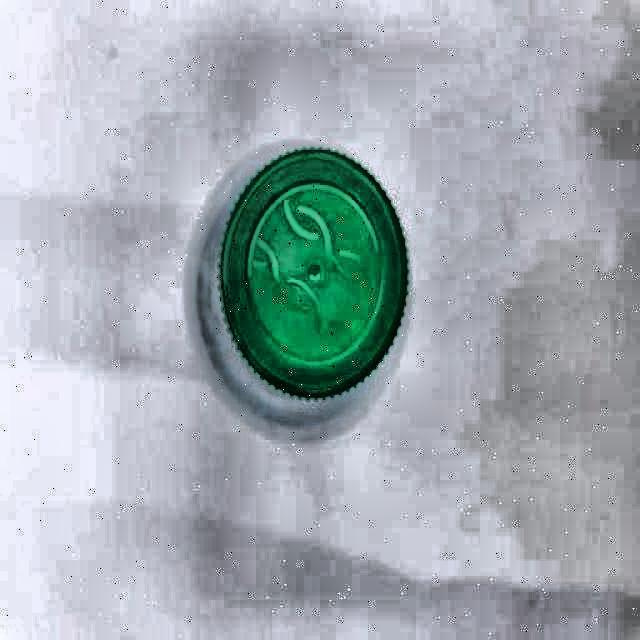plastic: (217, 147, 409, 401)
